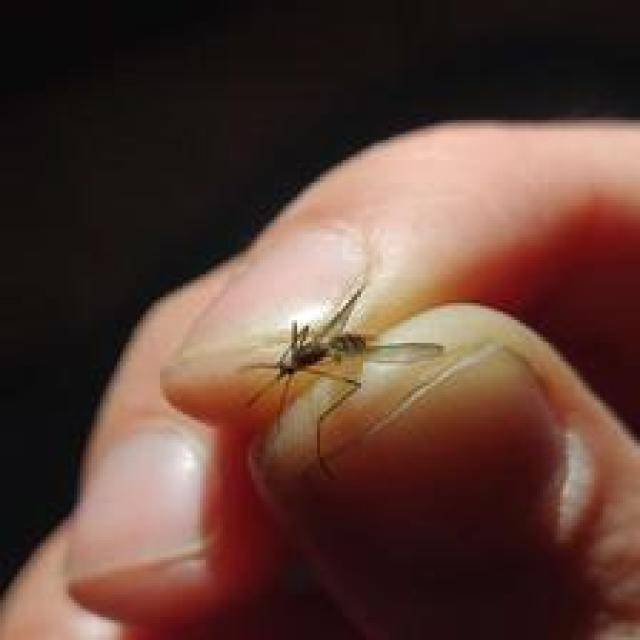Culex: (236, 278, 444, 482)
